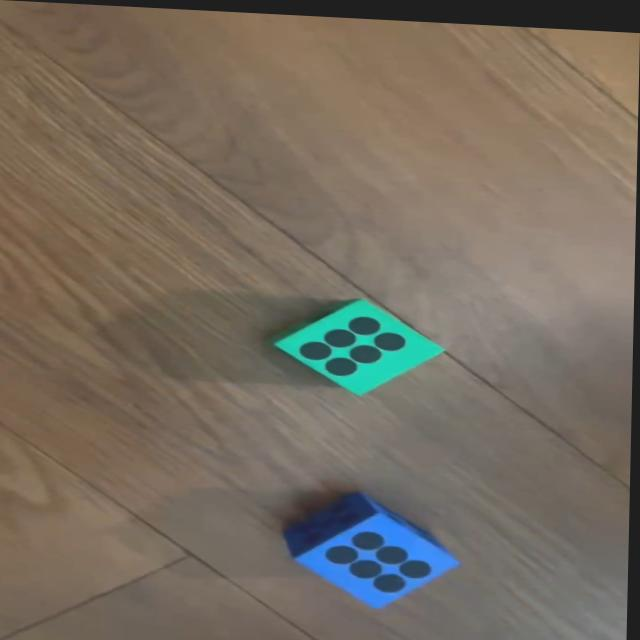blue_block: (283, 486, 467, 611)
